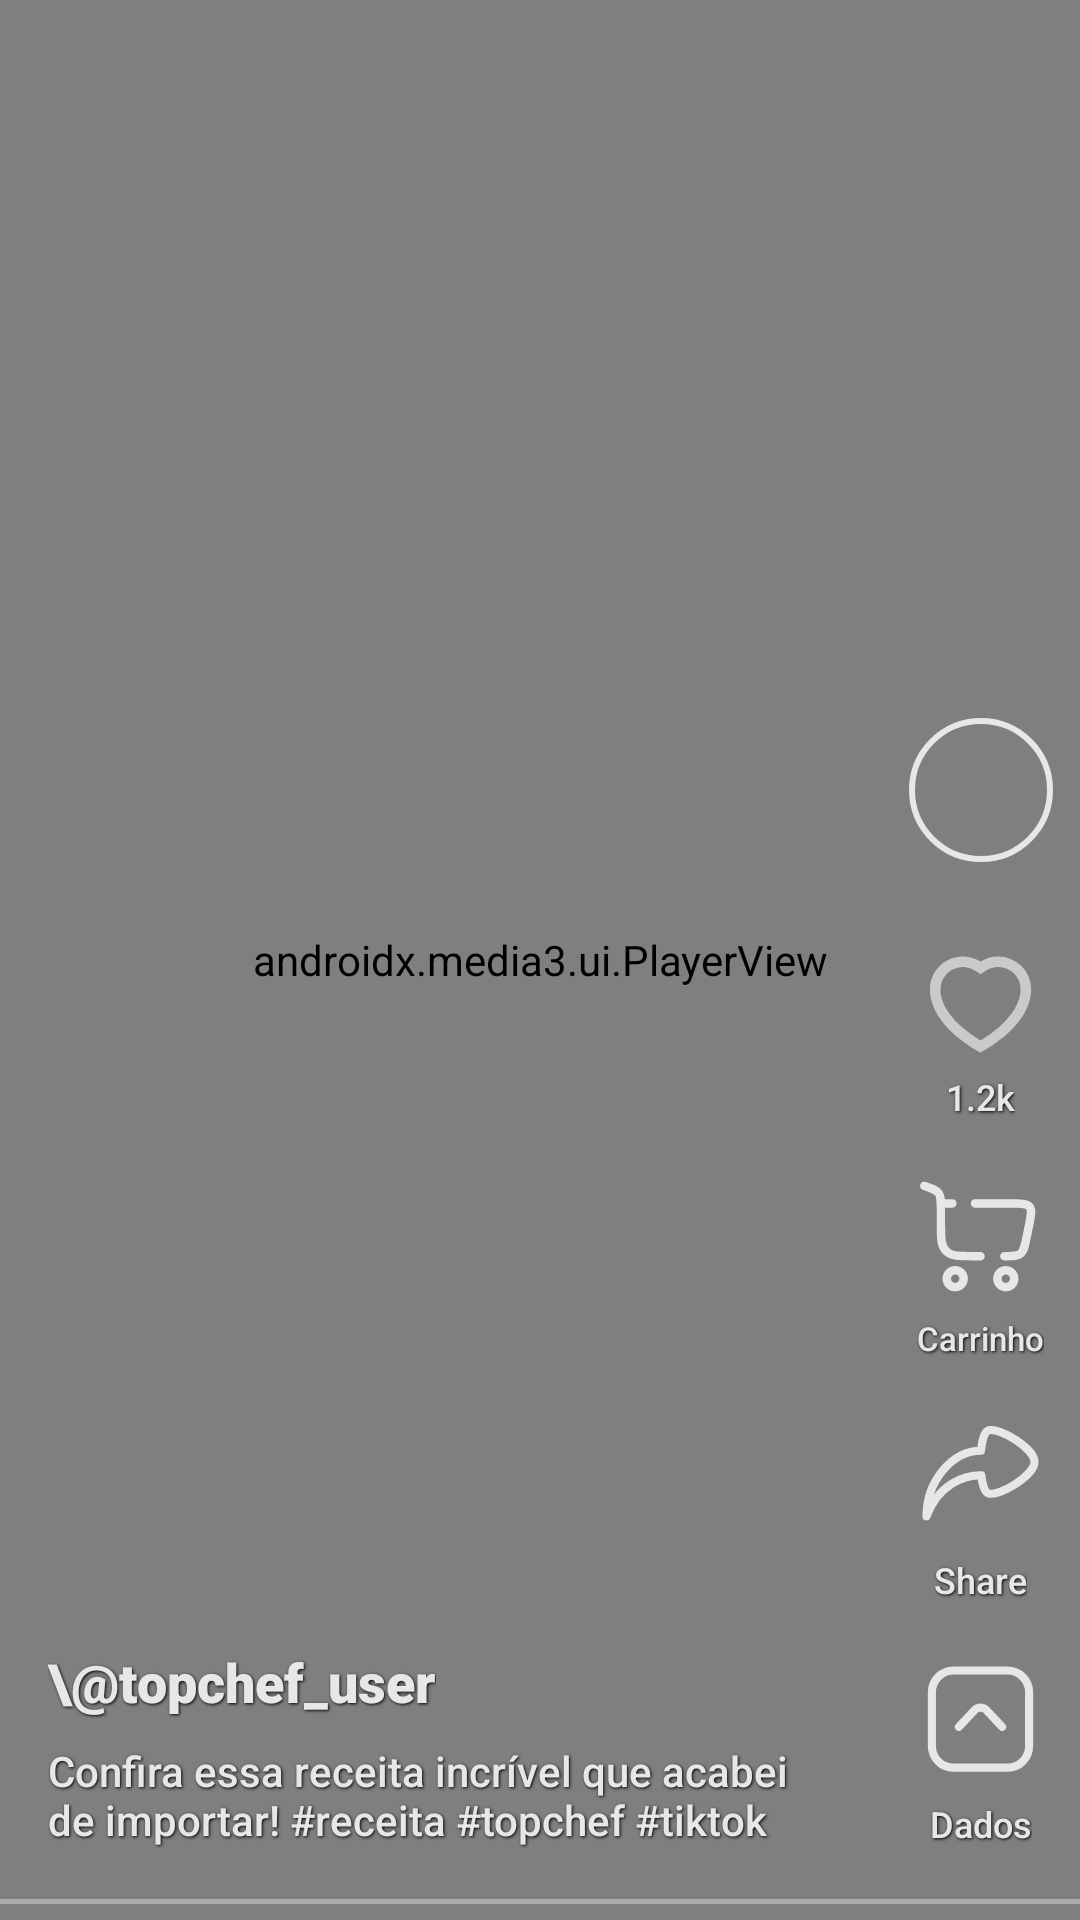

Screen size 1080 × 1920. Icon name, then its box in pixels as Rect(x1, y1, x2, y2):
favorite heart love: Rect(930, 956, 1031, 1053)
up square: Rect(928, 1666, 1033, 1772)
